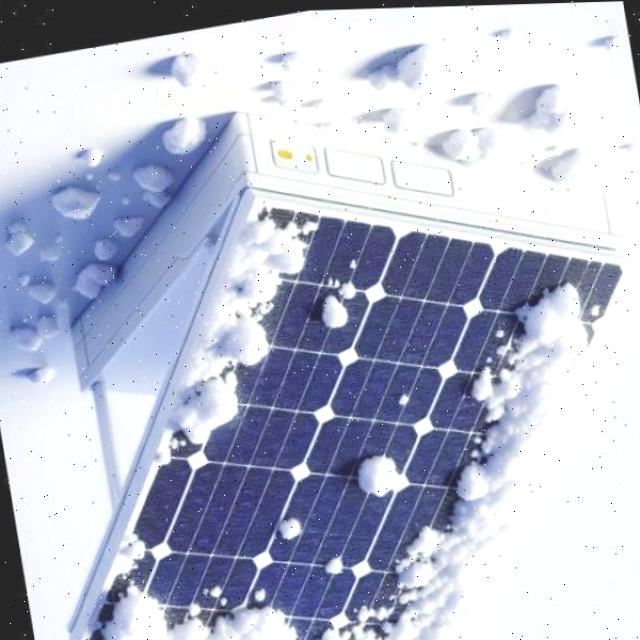Anomaly Solar Panel: (82, 127, 632, 640)
Snow: (64, 269, 640, 640), (152, 195, 324, 486), (313, 247, 370, 329), (348, 444, 405, 500), (117, 527, 149, 560), (274, 514, 302, 538), (323, 554, 342, 573), (585, 299, 604, 317)
